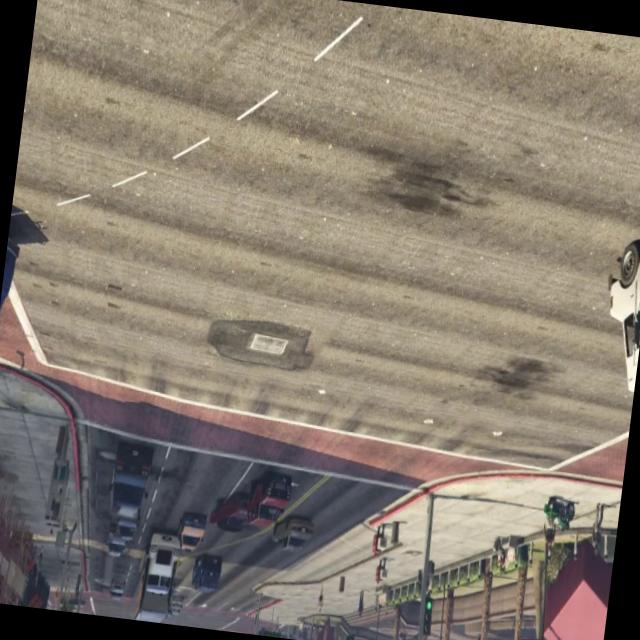Green-Signal: (418, 583, 438, 640), (260, 623, 284, 638), (342, 623, 360, 640)
